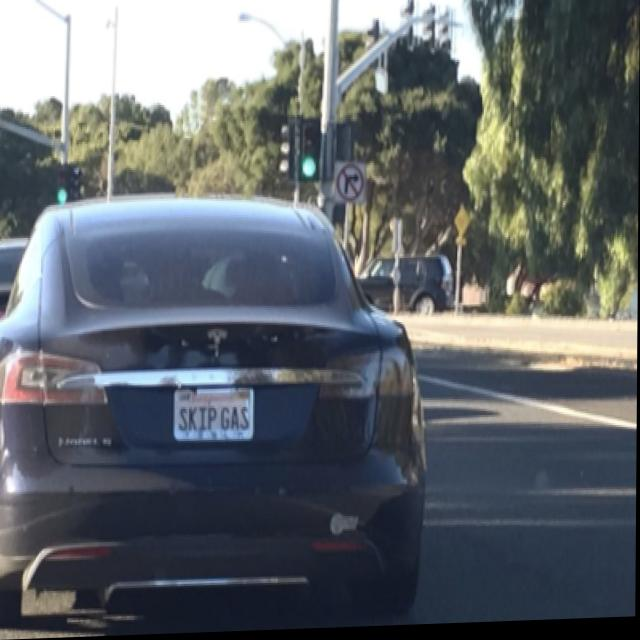licence: (172, 387, 255, 438)
